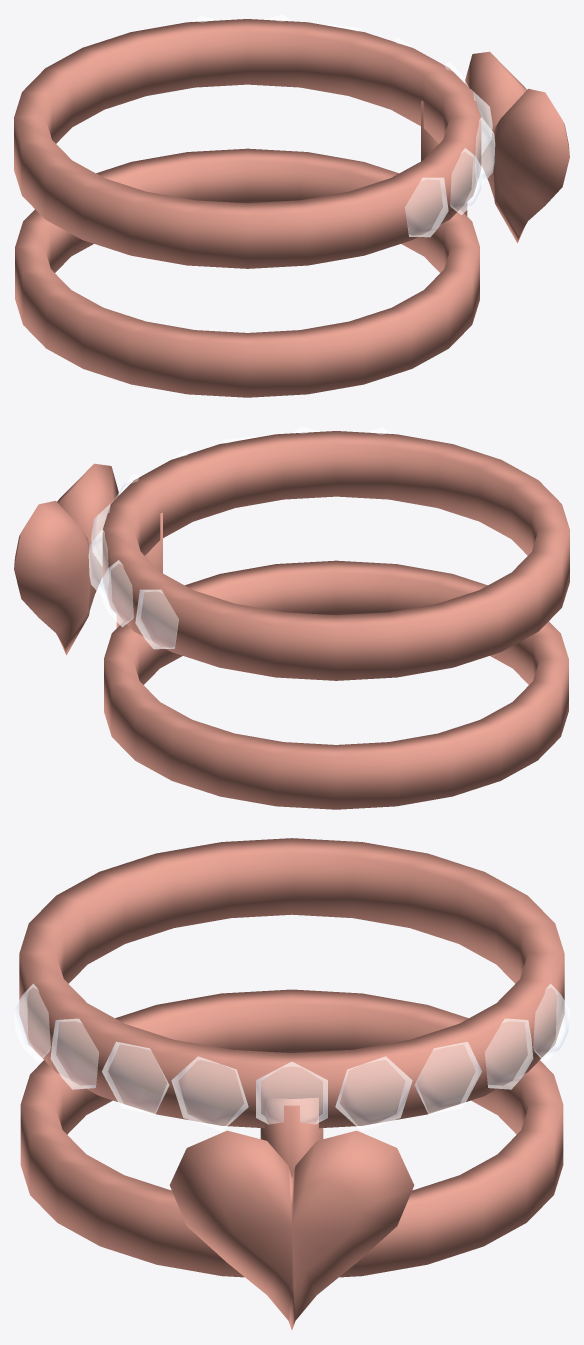
The model's file is stacked_ring.glb.
The picture shows the model from 3 angles, top to bottom: view 1: azimuth 30°, elevation 25°; view 2: azimuth 150°, elevation 25°; view 3: azimuth 270°, elevation 25°; orthographic projection. The views are drawn at different scales.
Parts seen in each view (by area): view 1: stacked_ring; view 2: stacked_ring; view 3: stacked_ring.
Part boxes in pixels (bbox=[...]): stacked_ring: bbox=[14, 14, 569, 397]; stacked_ring: bbox=[14, 426, 569, 809]; stacked_ring: bbox=[14, 838, 569, 1329].
Bounding box in the file's own units: 0.0258 × 0.0098 × 0.0214.
